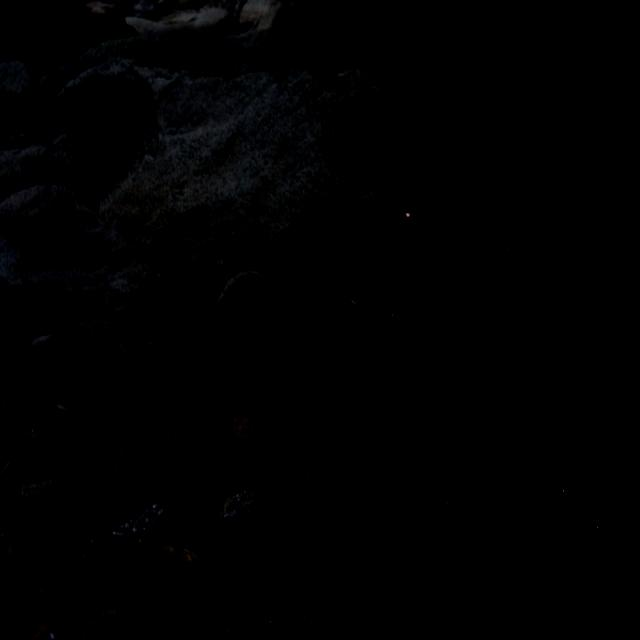Dog: (70, 222, 519, 548)
